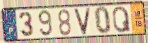0: (92, 6, 113, 36)
3: (19, 11, 35, 38)
8: (58, 8, 72, 36)
9: (38, 9, 54, 38)
Q: (112, 6, 132, 35)
V: (73, 6, 92, 36)
